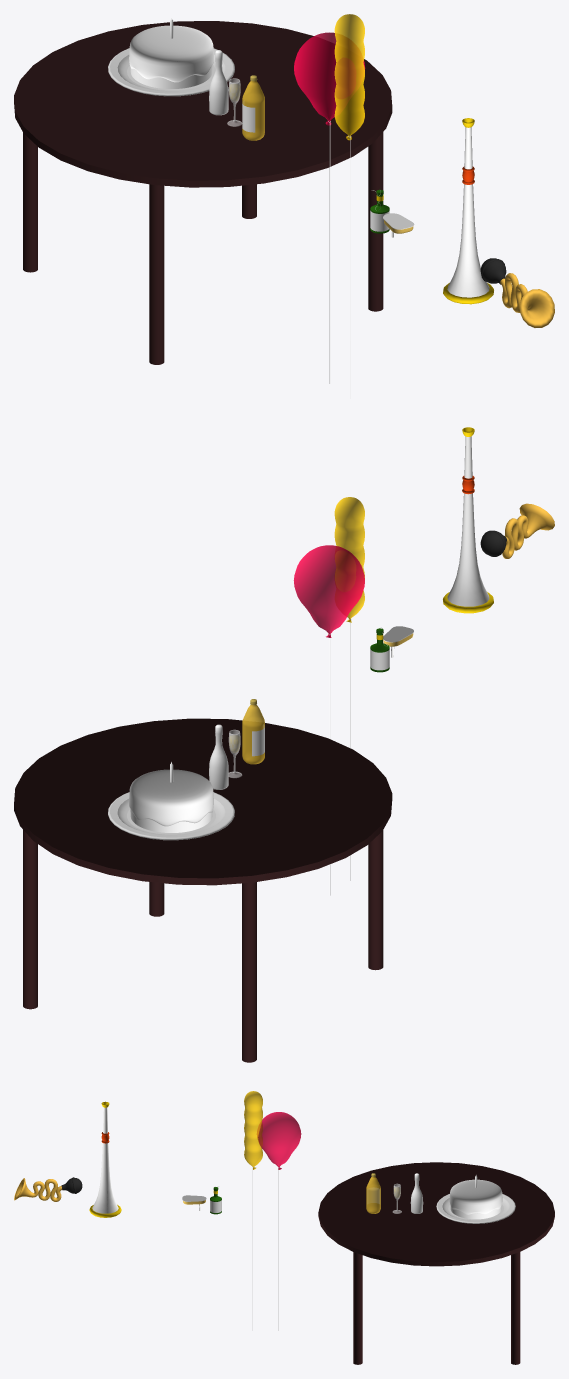
Rendered from PartyPack_group.obj.
3 views of the same model, one above another, from view 1: azimuth 30°, elevation 25°; view 2: azimuth 150°, elevation 25°; view 3: azimuth 270°, elevation 25° (orthographic). The views are drawn at different scales.
Visible parts, largest first — view 1: table, cake_frosting, balloon_main, balloon_rippled_main, vuvuzela, plate_large, clown_horn_main, 40oz_beer, champagne_bottle, cake_cake, party_popper_bottle, clown_horn_bulb (+2 smaller); view 2: table, balloon_main, cake_frosting, vuvuzela, balloon_rippled_main, plate_large, clown_horn_main, 40oz_beer, champagne_bottle, cake_cake; view 3: table, balloon_main, cake_frosting, balloon_rippled_main, vuvuzela, plate_large, clown_horn_main, 40oz_beer, champagne_bottle.
Part boxes in pixels (left/top/right/bottom): table: left=14, top=21, right=392, bottom=364; cake_frosting: left=129, top=25, right=213, bottom=82; balloon_main: left=294, top=32, right=365, bottom=125; balloon_rippled_main: left=334, top=14, right=364, bottom=140; vuvuzela: left=443, top=118, right=493, bottom=304; plate_large: left=108, top=48, right=234, bottom=96; clown_horn_main: left=500, top=273, right=554, bottom=327; 40oz_beer: left=242, top=75, right=264, bottom=140; champagne_bottle: left=209, top=50, right=228, bottom=115; cake_cake: left=130, top=65, right=212, bottom=88; party_popper_bottle: left=370, top=189, right=389, bottom=233; clown_horn_bulb: left=480, top=258, right=506, bottom=284; table: left=14, top=718, right=392, bottom=1062; balloon_main: left=293, top=545, right=364, bottom=637; cake_frosting: left=129, top=769, right=213, bottom=826; vuvuzela: left=443, top=427, right=493, bottom=613; balloon_rippled_main: left=334, top=497, right=364, bottom=622; plate_large: left=108, top=792, right=234, bottom=840; clown_horn_main: left=502, top=503, right=554, bottom=558; 40oz_beer: left=242, top=699, right=264, bottom=764; champagne_bottle: left=209, top=724, right=228, bottom=789; cake_cake: left=130, top=809, right=212, bottom=832; table: left=318, top=1162, right=554, bottom=1364; balloon_main: left=257, top=1112, right=301, bottom=1169; cake_frosting: left=449, top=1179, right=502, bottom=1214; balloon_rippled_main: left=244, top=1091, right=262, bottom=1169; vuvuzela: left=89, top=1101, right=121, bottom=1217; plate_large: left=436, top=1194, right=515, bottom=1223; clown_horn_main: left=14, top=1178, right=62, bottom=1201; 40oz_beer: left=366, top=1173, right=380, bottom=1213; champagne_bottle: left=410, top=1173, right=423, bottom=1213.
Size of the model in its own units: 59.06 by 65.79 by 135.
